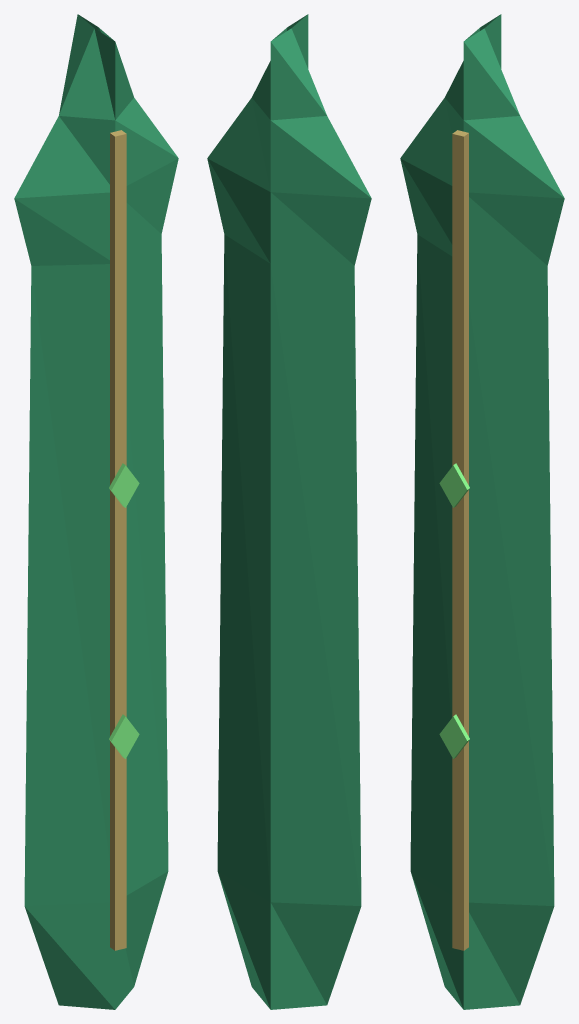
File: jade.obj
3 renders of one model, left to right at view 1: azimuth 30°, elevation 25°; view 2: azimuth 150°, elevation 25°; view 3: azimuth 330°, elevation 25°, orthographic.
Parts seen in each view (by area): view 1: jade_blade_left, jade_blade_right, jade_ridge, jade_ridge_edge, jade_blade_back_left, jade_script_0.78, jade_script_1.48; view 2: jade_blade_back_left, jade_blade_back_right, jade_blade_left; view 3: jade_blade_right, jade_blade_left, jade_ridge, jade_ridge_edge, jade_script_0.78, jade_script_1.48, jade_blade_back_right.
Boxes of the visible parts, <box> form: jade_blade_left: <box>14,28,115,1009</box>; jade_blade_right: <box>99,28,178,1009</box>; jade_ridge: <box>115,134,126,950</box>; jade_ridge_edge: <box>110,130,126,950</box>; jade_blade_back_left: <box>59,14,94,114</box>; jade_script_0.78: <box>112,716,139,758</box>; jade_script_1.48: <box>112,465,139,507</box>; jade_blade_back_left: <box>270,28,371,1009</box>; jade_blade_back_right: <box>207,27,287,1009</box>; jade_blade_left: <box>291,14,308,68</box>; jade_blade_right: <box>463,28,564,1009</box>; jade_blade_left: <box>400,27,480,1009</box>; jade_ridge: <box>452,134,463,950</box>; jade_ridge_edge: <box>452,130,468,950</box>; jade_script_0.78: <box>439,716,466,758</box>; jade_script_1.48: <box>439,465,466,507</box>; jade_blade_back_right: <box>484,14,501,68</box>.
Size of the model in its own units: 0.48 by 2.7 by 0.2422.
